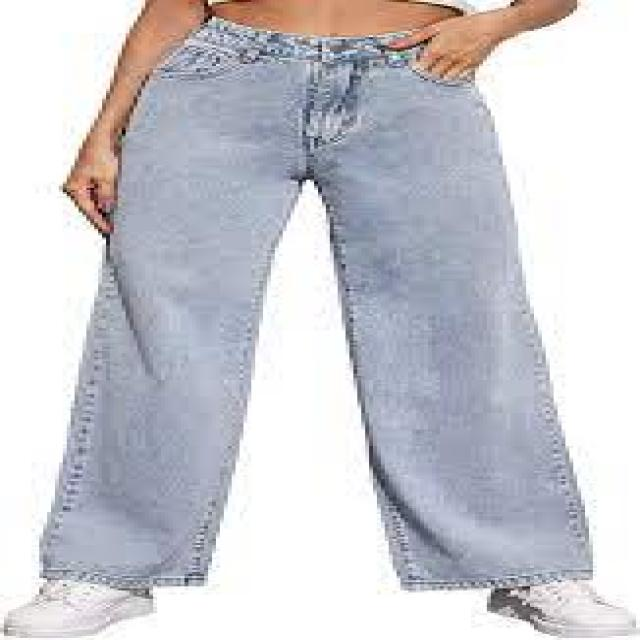pants: (32, 21, 614, 589)
